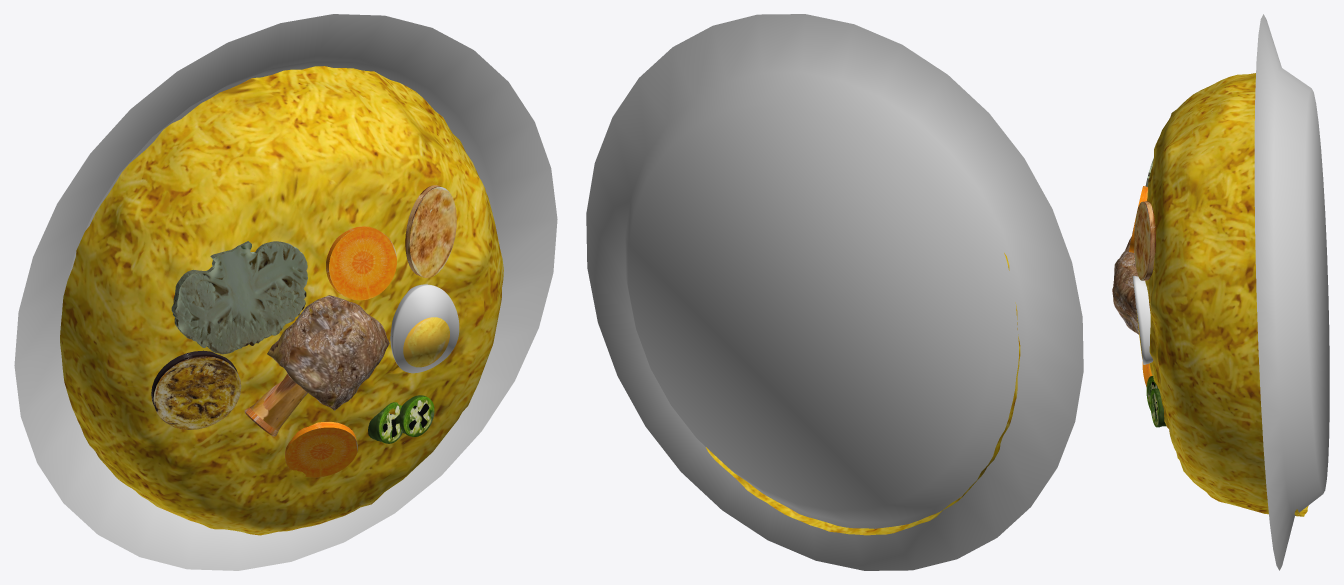
The model's file is maqloobahbudget-v8.glb.
3 views of the same model, side by side, from view 1: azimuth 30°, elevation 25°; view 2: azimuth 150°, elevation 25°; view 3: azimuth 270°, elevation 25° (orthographic). The views are drawn at different scales.
Visible parts, largest first — view 1: Sphere.002, Circle.002, Vert, Cube, Cylinder.004, Sphere.001, Cylinder.001, Cylinder.003, Cylinder.005, Cylinder, Cylinder.002, Cylinder.006; view 2: Circle.002, Sphere.002; view 3: Sphere.002, Circle.002, Cube, Cylinder.003, Sphere.001, Cylinder.002.
Boxes of the visible parts, x1,y1,x2,y2 form: Sphere.002: (60, 66, 503, 535); Circle.002: (14, 14, 557, 570); Vert: (171, 241, 307, 354); Cube: (267, 295, 389, 410); Cylinder.004: (151, 350, 241, 429); Sphere.001: (390, 284, 459, 373); Cylinder.001: (326, 226, 396, 300); Cylinder.003: (405, 185, 456, 277); Cylinder.005: (285, 421, 357, 477); Cylinder: (244, 374, 307, 436); Cylinder.002: (395, 395, 434, 436); Cylinder.006: (368, 402, 402, 443); Circle.002: (586, 14, 1083, 570); Sphere.002: (706, 253, 1020, 535); Sphere.002: (1145, 73, 1308, 516); Circle.002: (1254, 14, 1329, 570); Cube: (1112, 236, 1138, 334); Cylinder.003: (1134, 201, 1155, 280); Sphere.001: (1132, 276, 1153, 364); Cylinder.002: (1150, 388, 1166, 427).
Size of the model in its own units: 6.88 by 6.87 by 2.69.
Materials: 12 (10 with a texture image).
